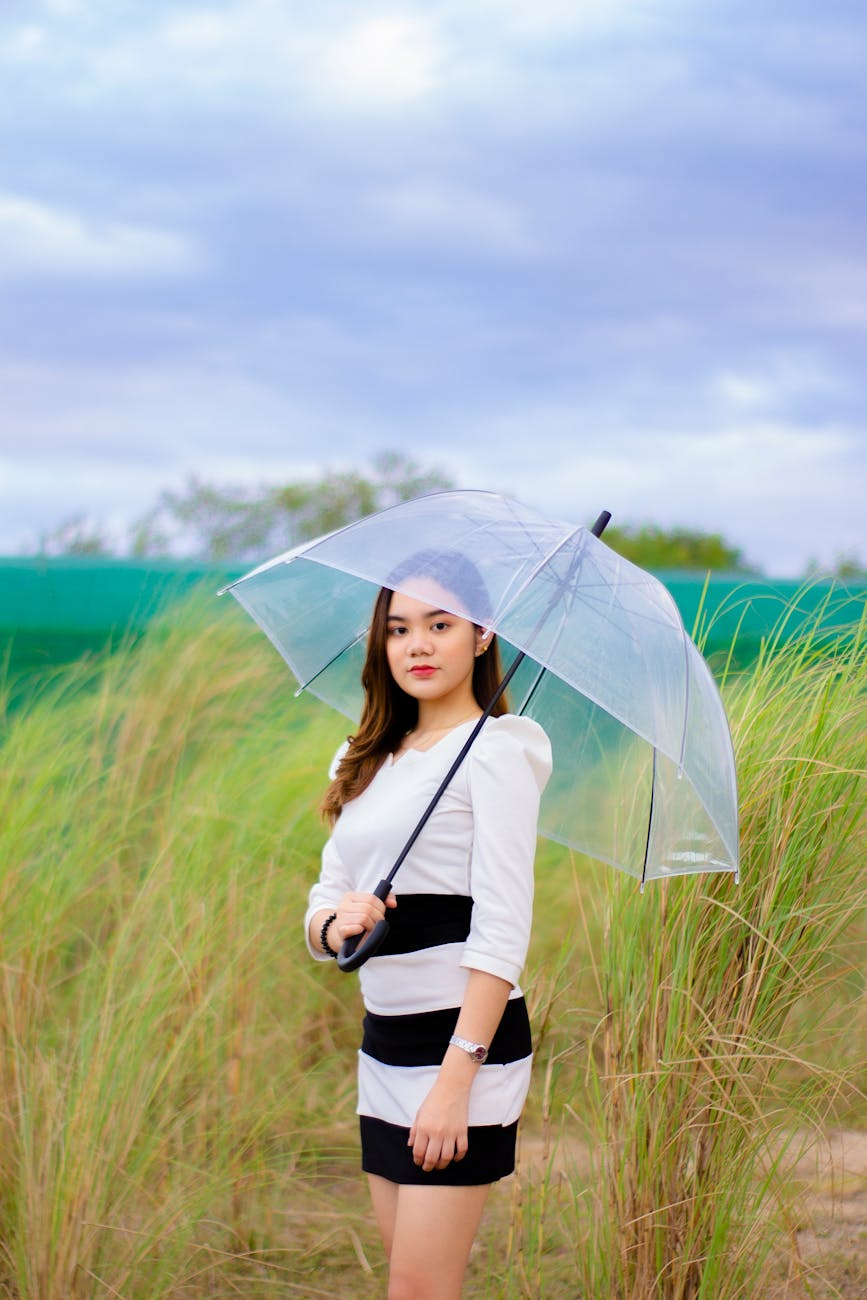short_medium_skirt: (346, 1012, 528, 1190)
